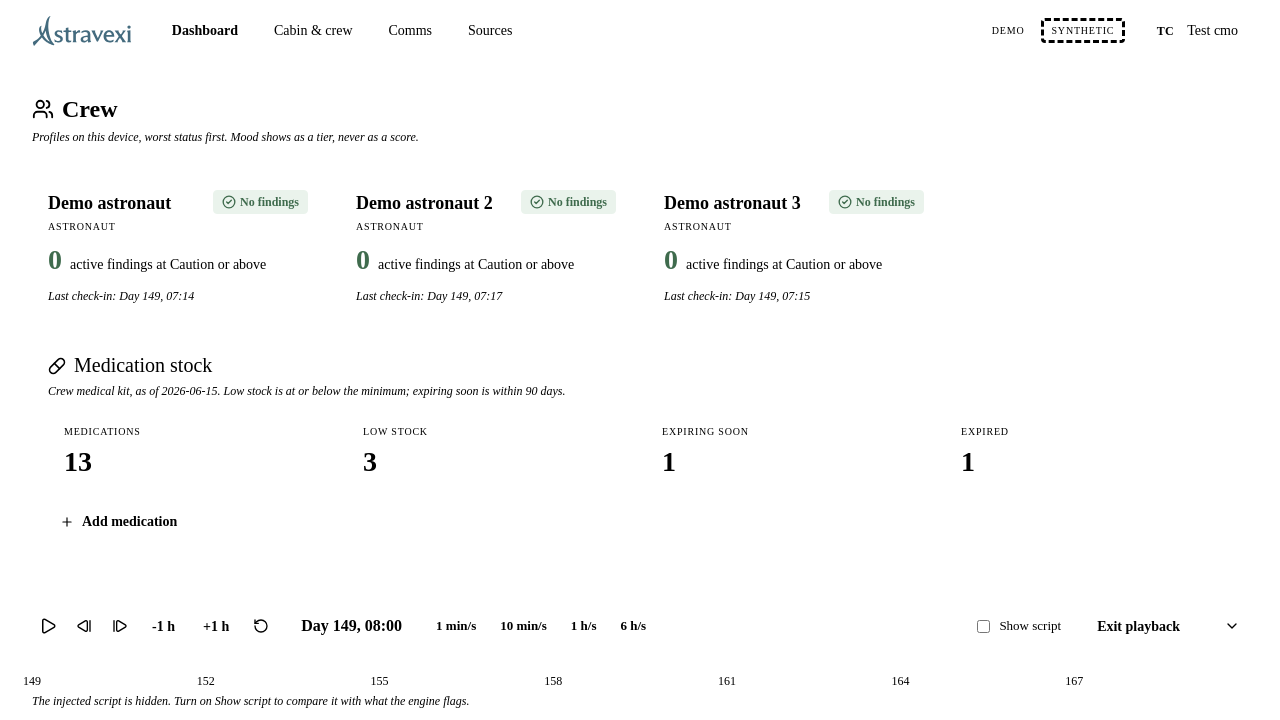
Test case: playback bar › steps by reading and by an hour, seeks with the slider keys, and restarts
Click the button named "Next reading": click(120, 626) [104,610,136,642]
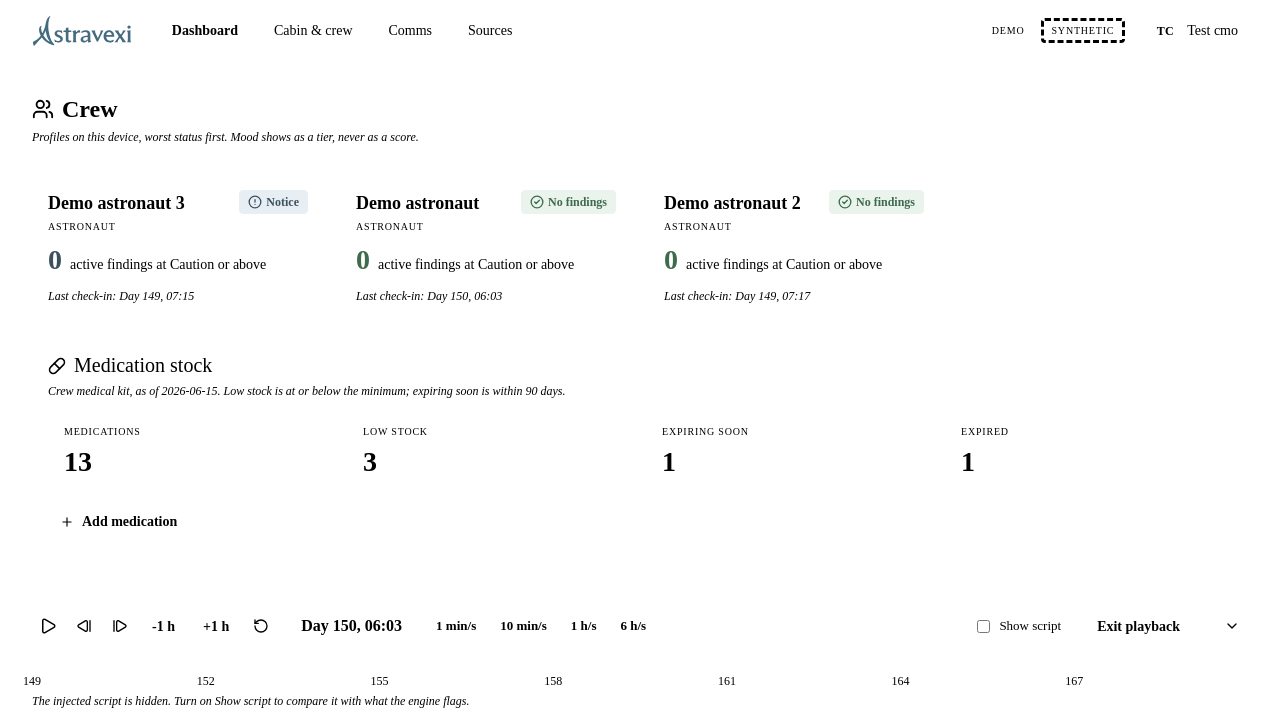
Click the button named "Back 1 hour": click(164, 626) [140,610,187,642]
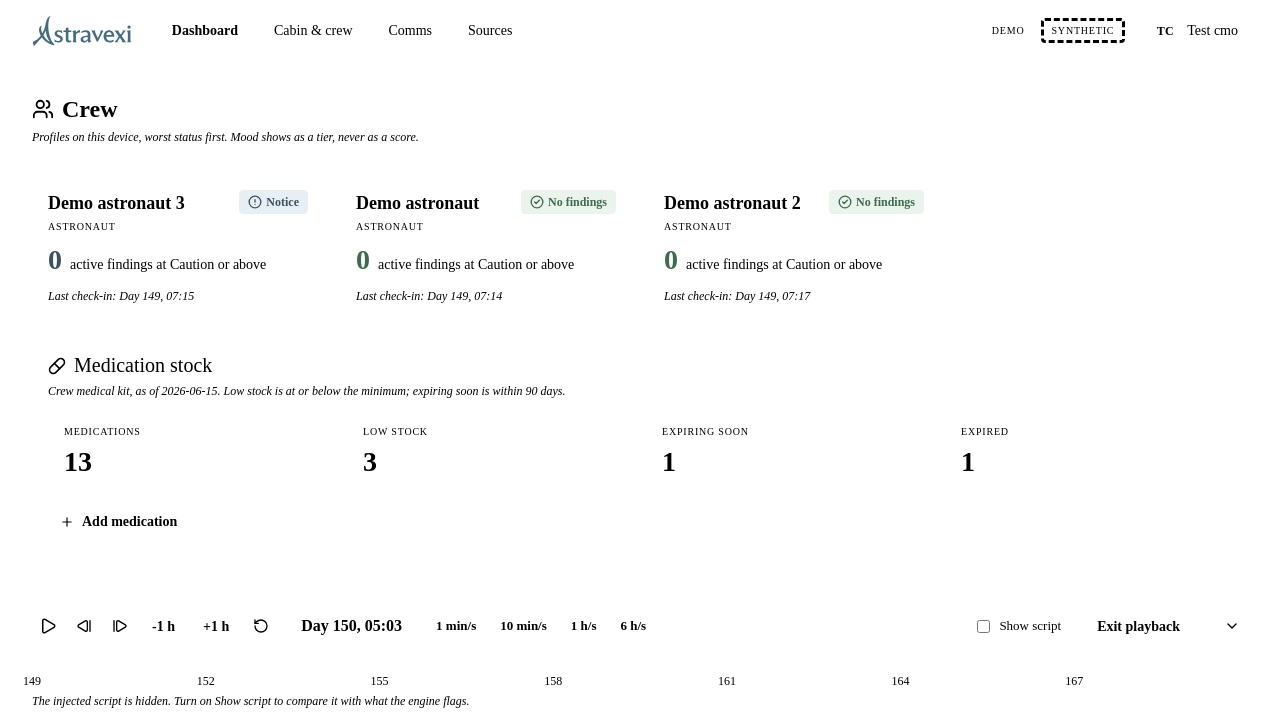
Click the button named "Forward 1 hour": click(216, 626) [191,610,241,642]
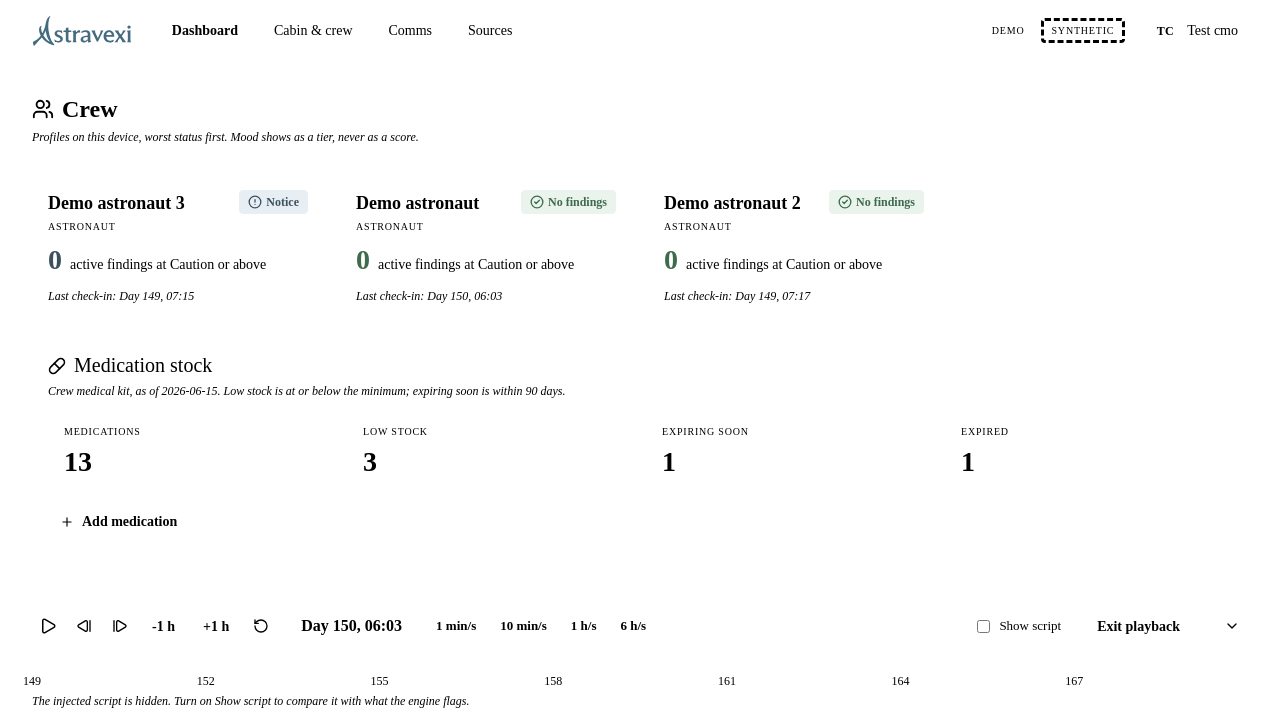
Click the button named "Forward 1 hour": click(216, 626) [191,610,241,642]
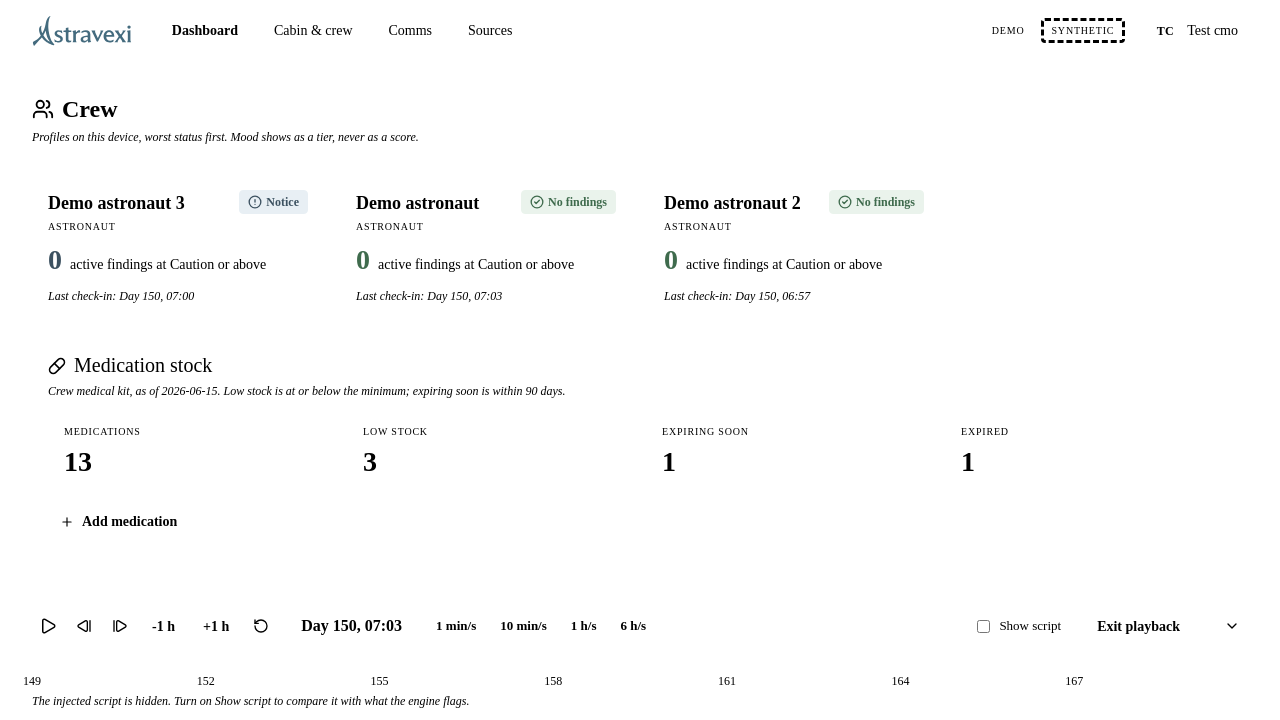
Click the button named "Restart": click(261, 626) [245,610,277,642]
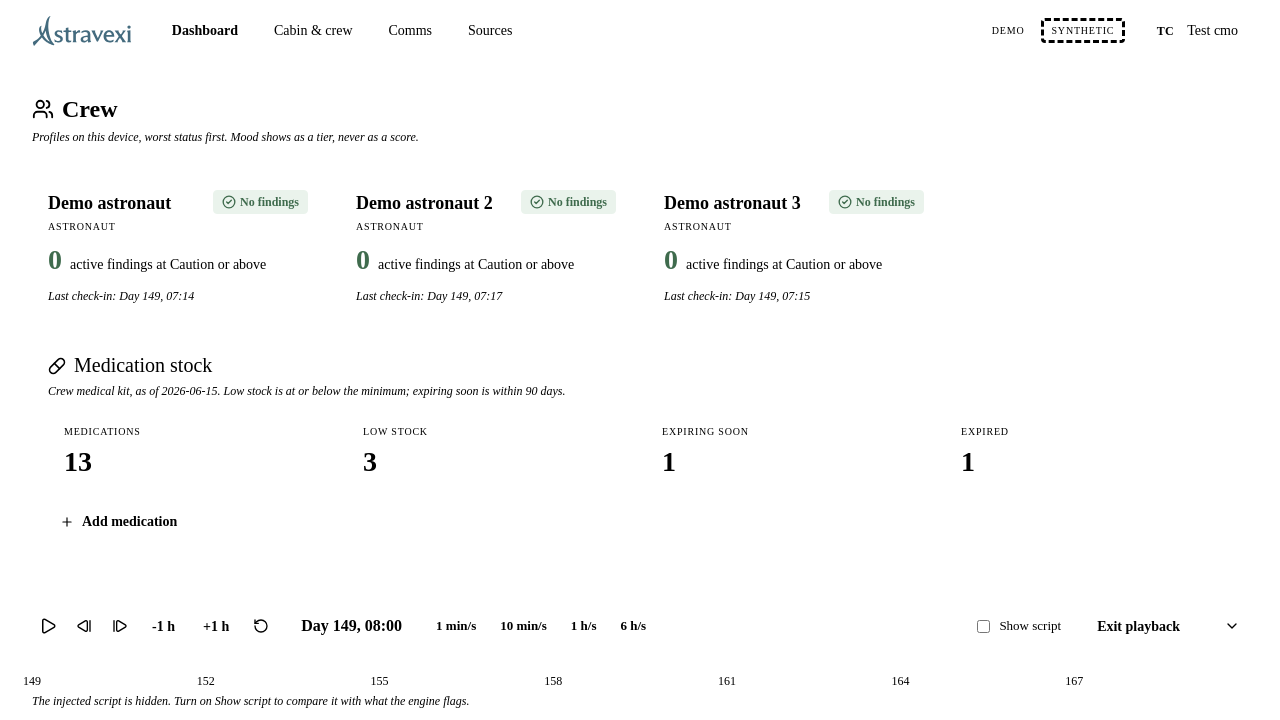
Now the element with test id "mission-time" reads "Day 149, 08:00", box [301,617,402,634]
